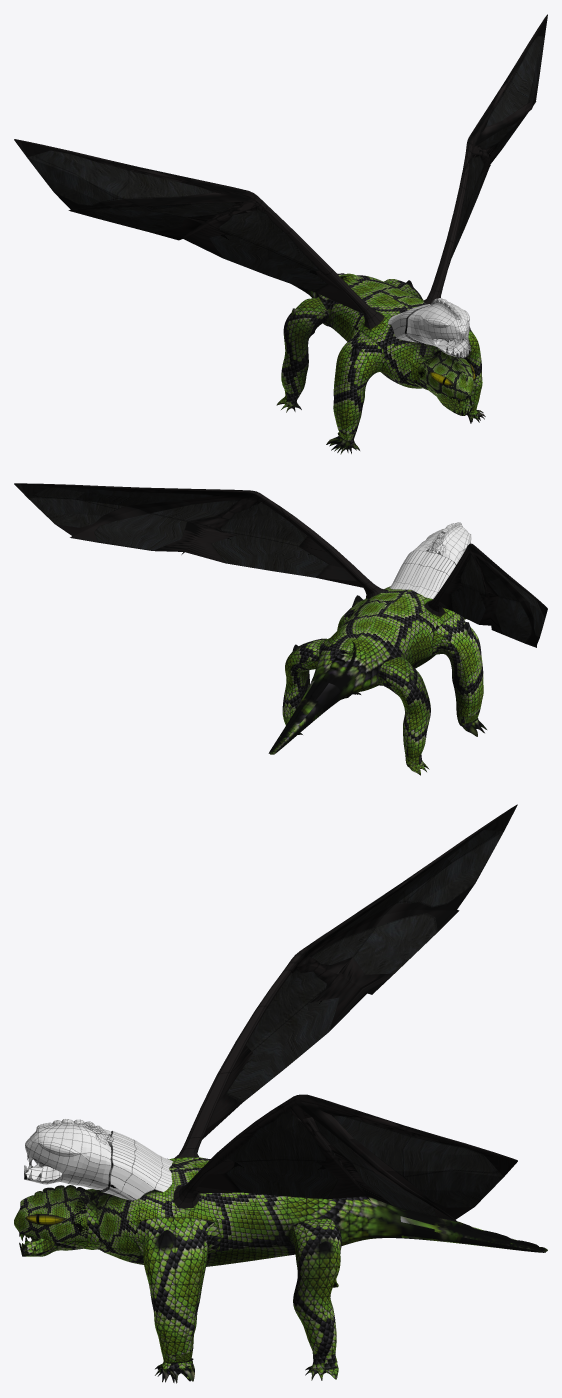
Rendered from monster_000009.obj.
The picture shows the model from 3 angles, top to bottom: view 1: azimuth 30°, elevation 25°; view 2: azimuth 150°, elevation 25°; view 3: azimuth 270°, elevation 25°; orthographic projection. The views are drawn at different scales.
Visible parts, largest first — view 1: body_Cube, secondHead_Cube.002; view 2: body_Cube, secondHead_Cube.002; view 3: body_Cube, secondHead_Cube.002.
Boxes of the visible parts, x1,y1,x2,y2 form: body_Cube: [14, 14, 547, 454]; secondHead_Cube.002: [388, 298, 471, 357]; body_Cube: [14, 483, 547, 775]; secondHead_Cube.002: [389, 522, 471, 598]; body_Cube: [14, 804, 547, 1383]; secondHead_Cube.002: [24, 1119, 172, 1200].
Bounding box in the file's own units: 8.54 × 4.07 × 5.51.
